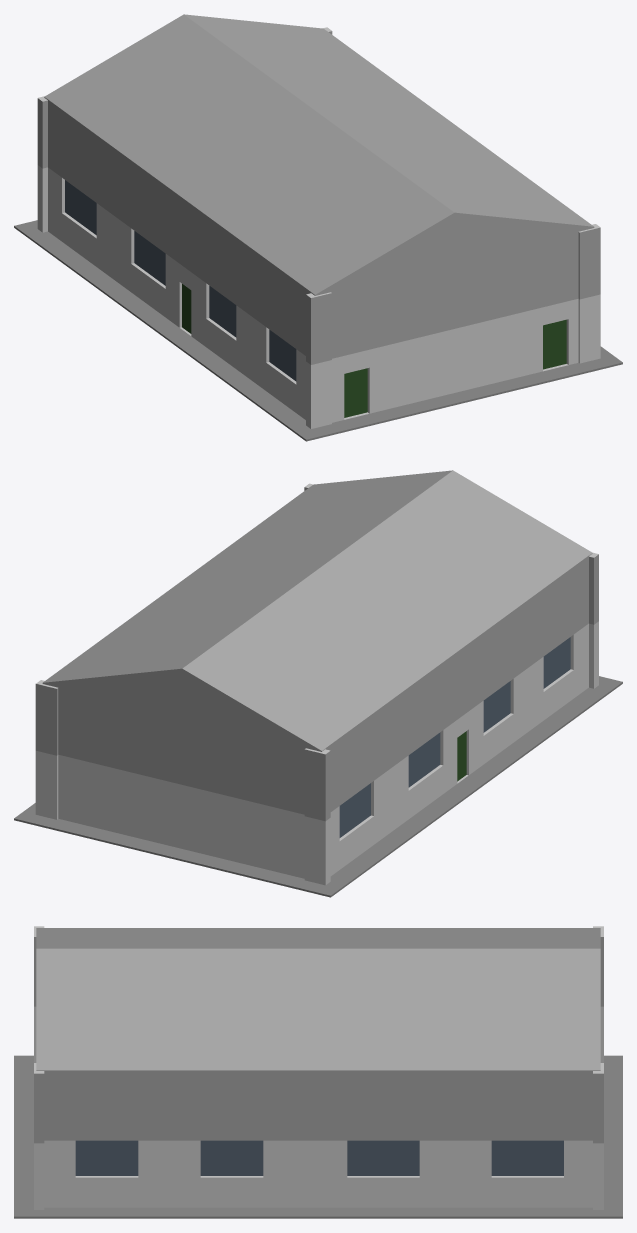
Rendered from mayor.gltf.
The picture shows the model from 3 angles, top to bottom: view 1: azimuth 30°, elevation 25°; view 2: azimuth 150°, elevation 25°; view 3: azimuth 270°, elevation 25°; orthographic projection. The views are drawn at different scales.
Visible parts, largest first — view 1: Plane; view 2: Plane; view 3: Plane.
Boxes of the visible parts, x1=… form: Plane: x1=14, y1=14, x2=622, y2=441; Plane: x1=14, y1=470, x2=622, y2=897; Plane: x1=14, y1=926, x2=622, y2=1218.
Size of the model in its own units: 20.26 by 11.14 by 32.37.
